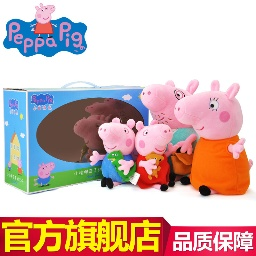Peppa: (134, 120, 176, 193)
